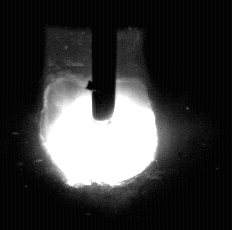arame: (93, 0, 116, 125)
poca: (40, 0, 159, 230)
